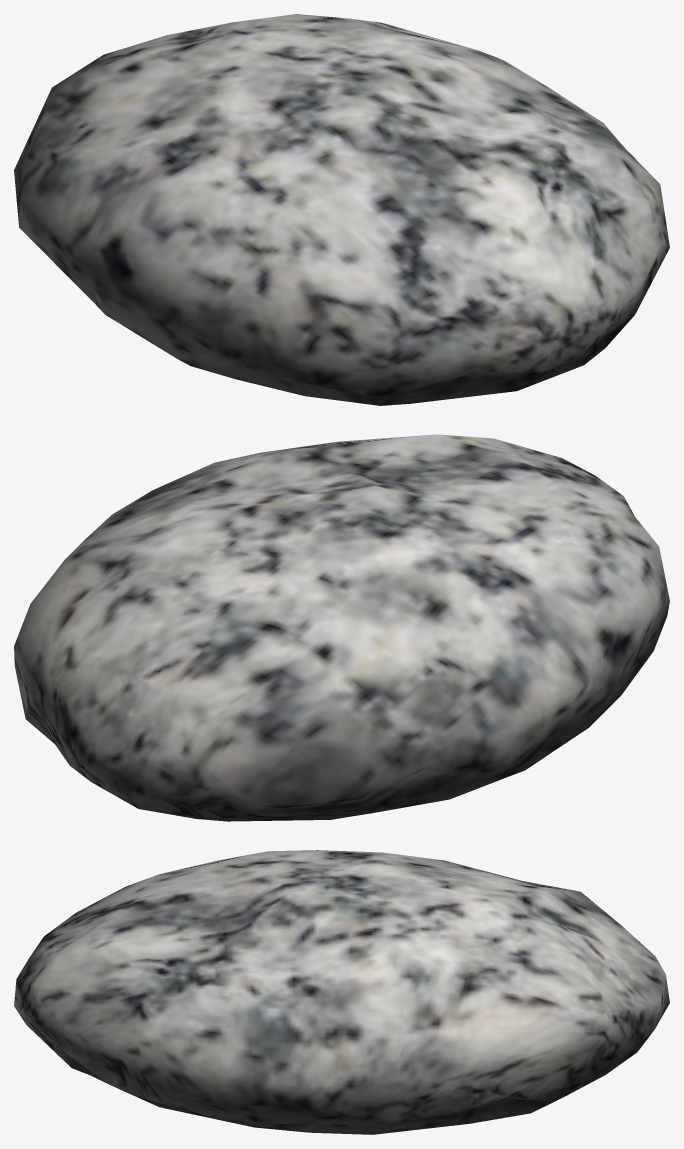
The model's file is Cobblestone.fbx.
The picture shows the model from 3 angles, top to bottom: view 1: azimuth 30°, elevation 25°; view 2: azimuth 150°, elevation 25°; view 3: azimuth 270°, elevation 25°; orthographic projection. The views are drawn at different scales.
Visible parts, largest first — view 1: Cobblestone_Geometry; view 2: Cobblestone_Geometry; view 3: Cobblestone_Geometry.
Part boxes in pixels (<box>): Cobblestone_Geometry: <box>14,14,669,405</box>; Cobblestone_Geometry: <box>14,434,669,821</box>; Cobblestone_Geometry: <box>14,850,669,1134</box>.
Size of the model in its own units: 0.1175 by 0.0507 by 0.1565.
